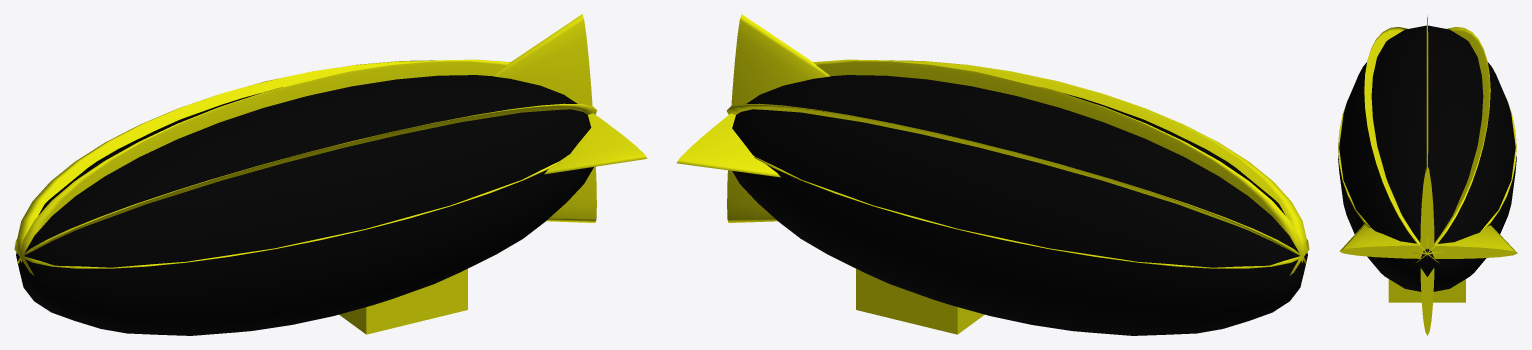
The model's file is Enemy1.fbx.
3 views of the same model, side by side, from view 1: azimuth 30°, elevation 25°; view 2: azimuth 150°, elevation 25°; view 3: azimuth 270°, elevation 25° (orthographic). The views are drawn at different scales.
Parts seen in each view (by area): view 1: pSphere1, pasted__pasted__pasted__pSphere1 (×2), pCone1, pCube1, pasted__pasted__pSphere1, pasted__pCone1, pasted__pSphere1; view 2: pSphere1, pasted__pasted__pasted__pSphere1 (×2), pCone1, pasted__pasted__pSphere1, pCube1, pasted__pCone1, pasted__pSphere1; view 3: pSphere1, pasted__pCone1, pasted__pasted__pasted__pSphere1 (×2), pasted__pasted__pSphere1, pCone1, pCube1, pasted__pSphere1.
Part boxes in pixels (box(x1,y1,x2,y2)): pSphere1: box(16, 75, 593, 335); pasted__pasted__pasted__pSphere1 (×2): box(17, 59, 510, 275); pCone1: box(493, 14, 596, 222); pCube1: box(339, 268, 467, 334); pasted__pasted__pSphere1: box(17, 103, 597, 263); pasted__pCone1: box(544, 113, 647, 174); pasted__pSphere1: box(14, 161, 561, 268); pSphere1: box(732, 75, 1307, 335); pasted__pasted__pasted__pSphere1 (×2): box(726, 59, 1306, 263); pCone1: box(727, 14, 830, 222); pasted__pasted__pSphere1: box(889, 60, 1306, 275); pCube1: box(856, 268, 984, 334); pasted__pCone1: box(677, 113, 780, 177); pasted__pSphere1: box(754, 157, 1309, 268); pSphere1: box(1338, 25, 1516, 291); pasted__pCone1: box(1339, 224, 1517, 258); pasted__pasted__pasted__pSphere1 (×2): box(1416, 15, 1490, 262); pasted__pasted__pSphere1: box(1364, 27, 1438, 262); pCone1: box(1420, 166, 1434, 335); pCube1: box(1388, 279, 1465, 302); pasted__pSphere1: box(1338, 98, 1516, 254).
Size of the model in its own units: 5.66 by 2.29 by 2.01.
